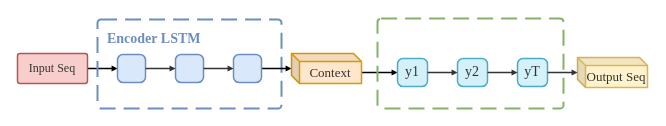
Image size: 666x126. Some labels were removed from this diagram. Here are the shapes that lost their labels. From the top down, the box of each, then its label:
(116, 53, 146, 83): h1
(174, 53, 204, 83): h2
(232, 53, 262, 83): hT
(376, 17, 564, 109): Decoder LSTM
